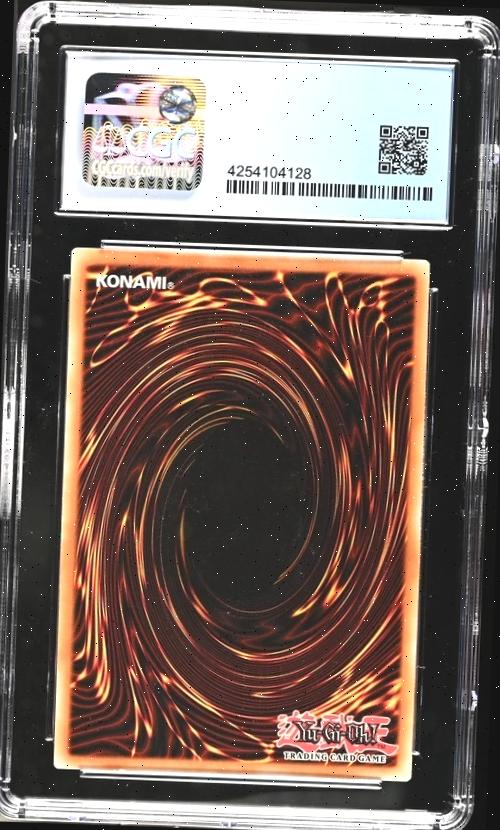card-2UtV: (53, 247, 431, 781)
